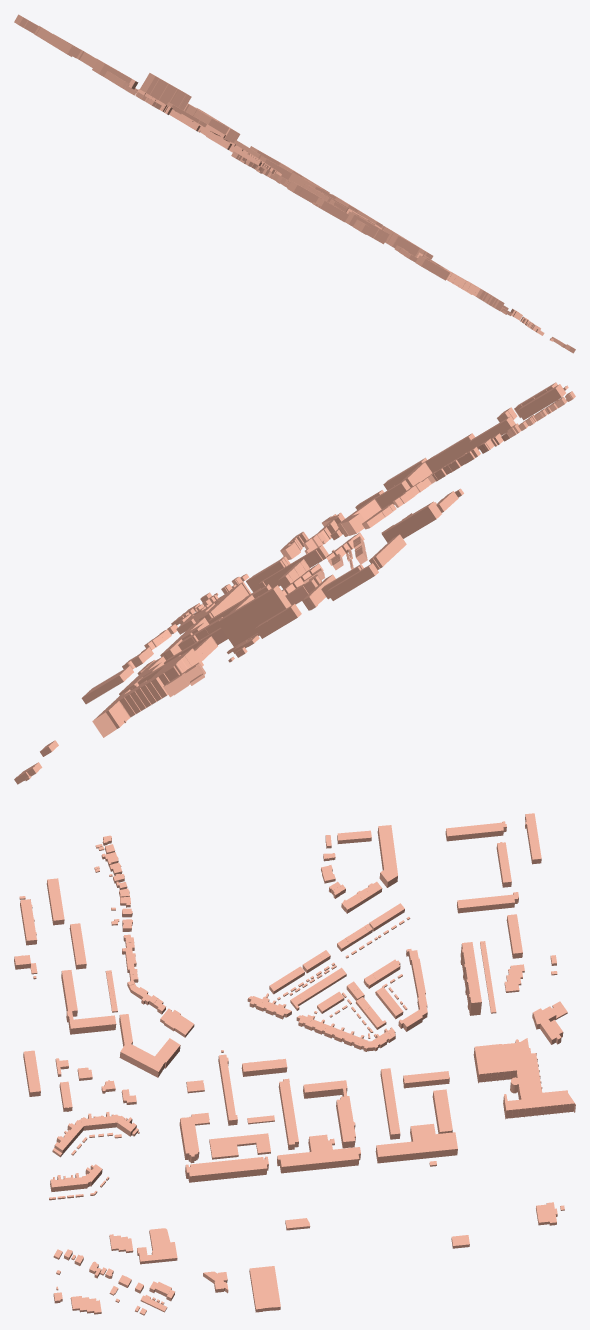
3 renders of one model, top to bottom at view 1: azimuth 30°, elevation 25°; view 2: azimuth 150°, elevation 25°; view 3: azimuth 270°, elevation 25°, orthographic. The views are drawn at different scales.
Size of the model in its own units: 522 by 388 by 634.
